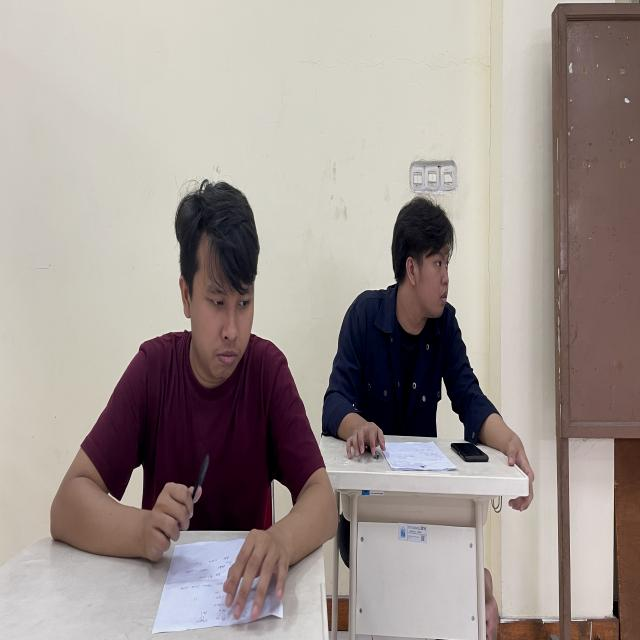non-cheating: (388, 197, 474, 323)
